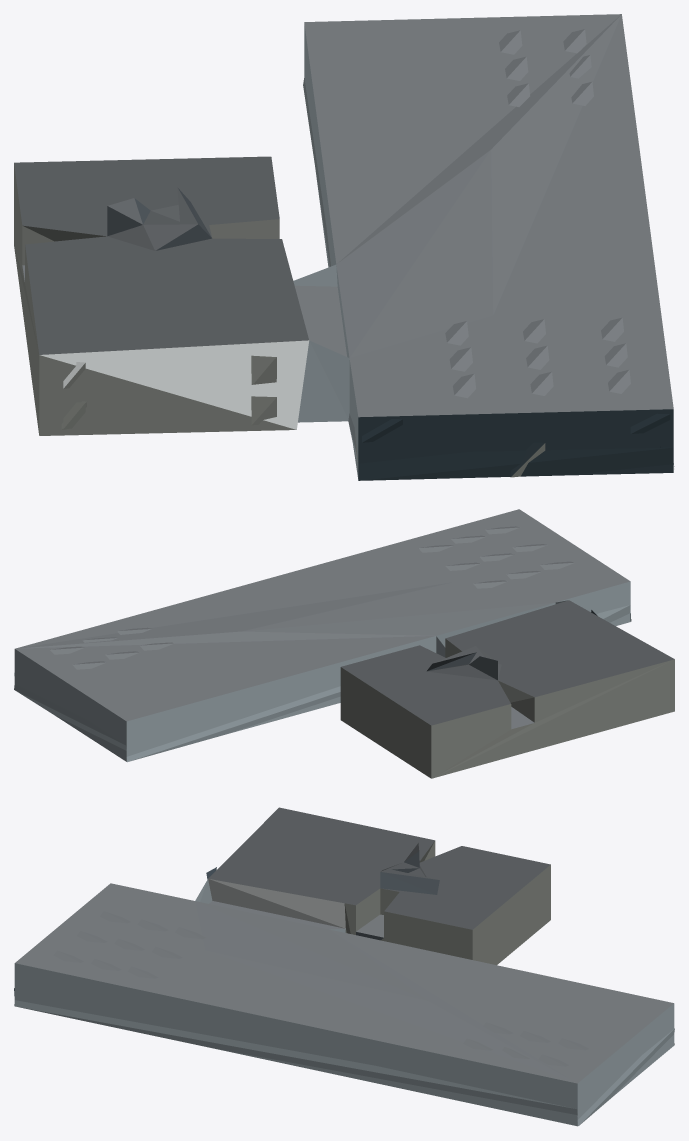
File: the-other-side.lod2.glb
3 views of the same model, one above another, from view 1: azimuth 30°, elevation 25°; view 2: azimuth 150°, elevation 25°; view 3: azimuth 270°, elevation 25° (orthographic). The views are drawn at different scales.
Parts seen in each view (by area): view 1: lod2; view 2: lod2; view 3: lod2.
Boxes of the visible parts, x1=… form: lod2: x1=14, y1=14, x2=674, y2=480; lod2: x1=14, y1=509, x2=674, y2=778; lod2: x1=14, y1=807, x2=674, y2=1126.
Bounding box in the file's own units: 75 × 10.09 × 79.18.
